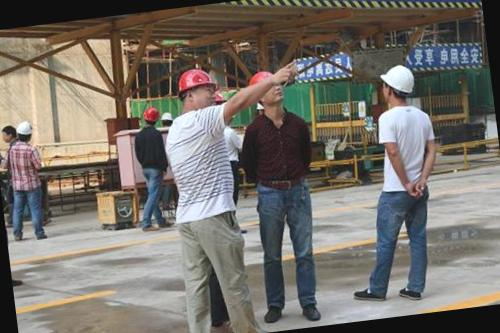no_helmet: (0, 123, 16, 145)
